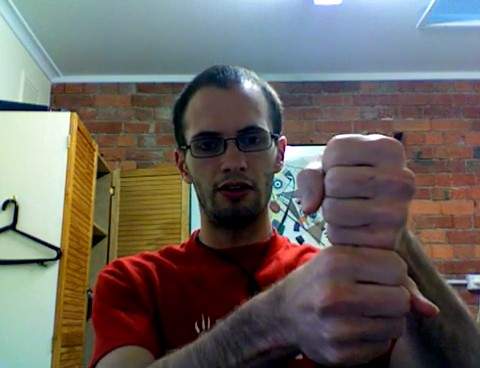G: (292, 128, 443, 368)
